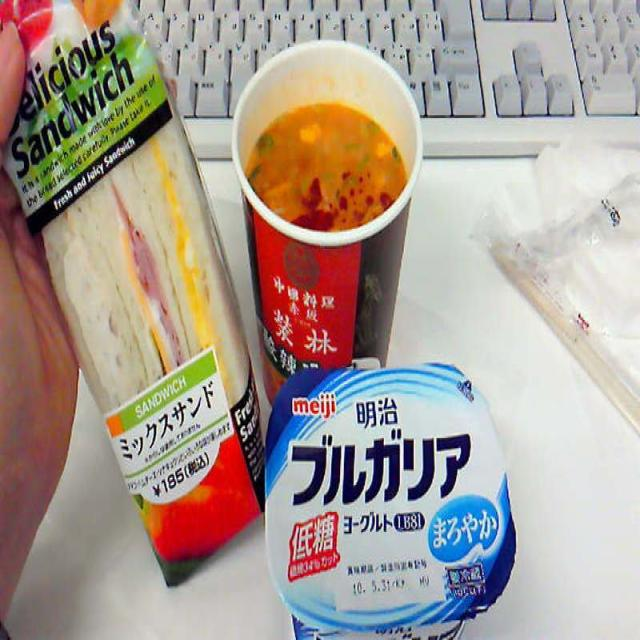三明治: (0, 0, 256, 573)
汤锅炖物: (230, 44, 421, 414)
